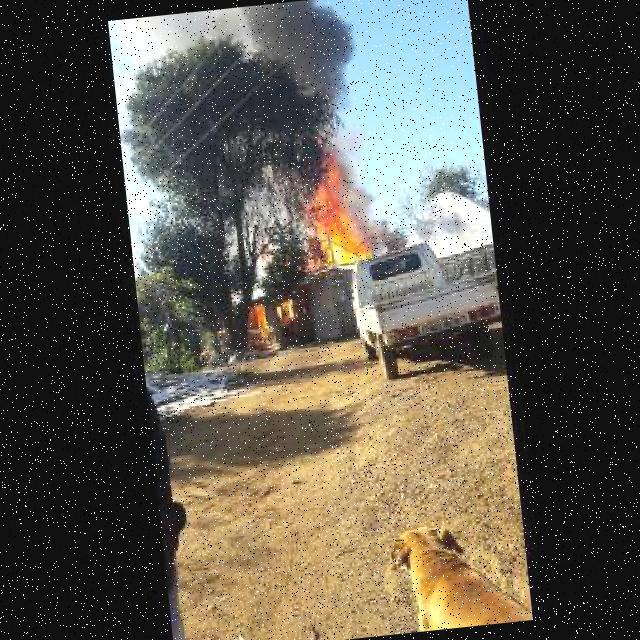Fire: (298, 144, 380, 269), (259, 307, 274, 338)
Smoke: (307, 1, 373, 181)
